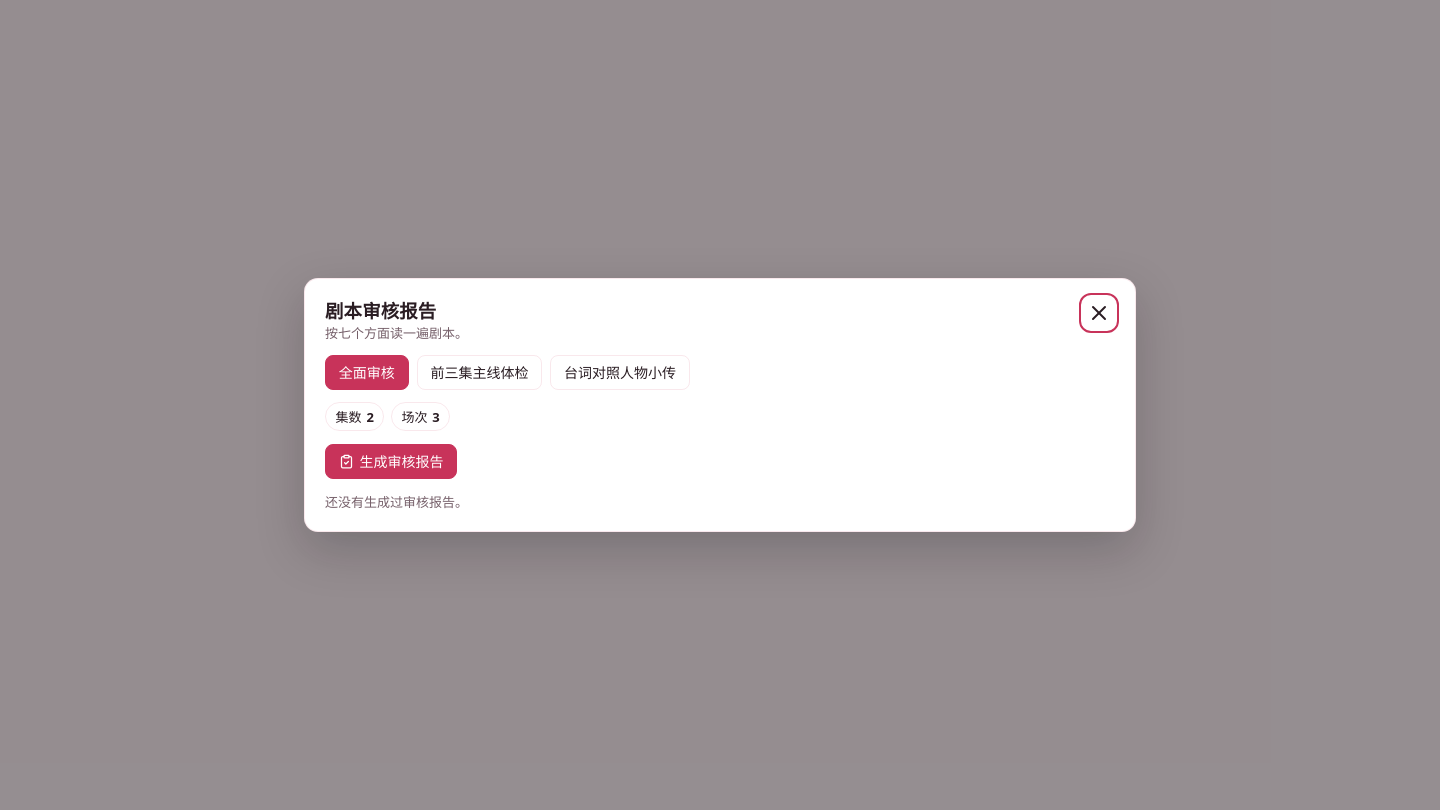
Test case: ScriptReviewDialog › switches to a focused check, reads and writes that check, and says when it cannot run
Expected: the text "按七个方面读一遍剧本。" is shown, [325, 323, 468, 342]
Click the button "前三集主线体检" at [479, 372], box [417, 355, 542, 390]
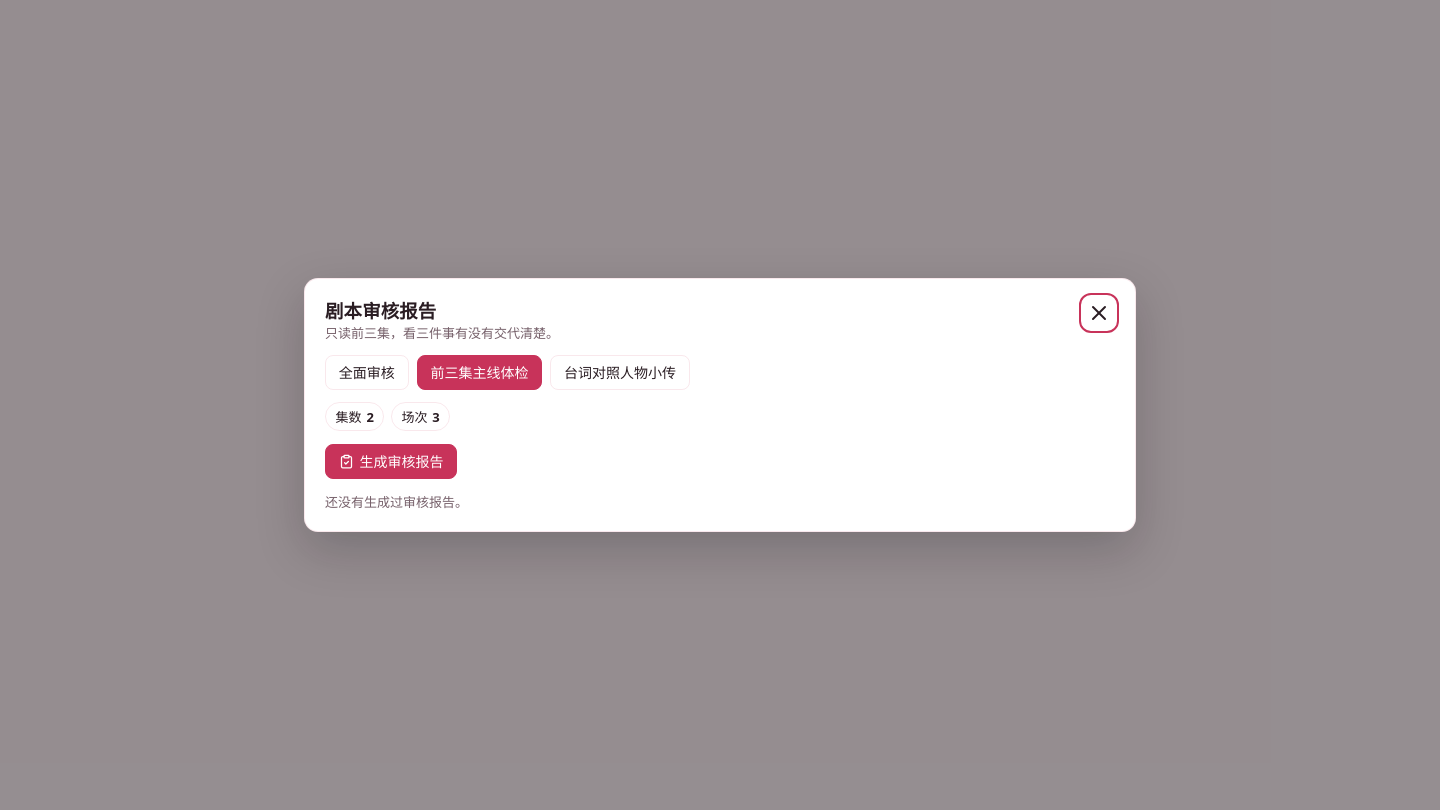
Now the text "只读前三集，看三件事有没有交代清楚。" is shown, box [325, 323, 559, 342]
Click the button "生成审核报告" at [391, 462], box [325, 444, 457, 479]
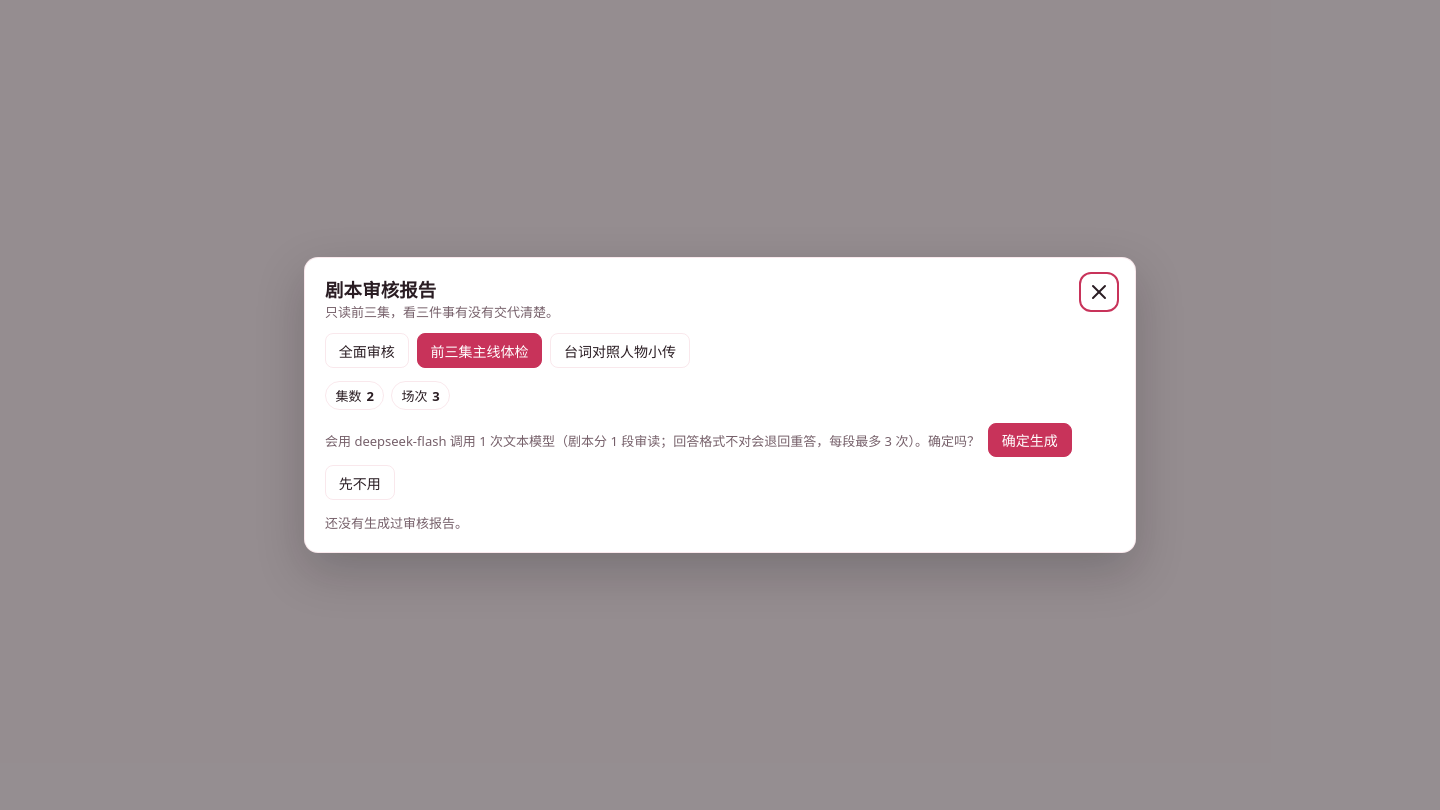
Click the button "确定生成" at [1030, 440], box [988, 423, 1072, 458]
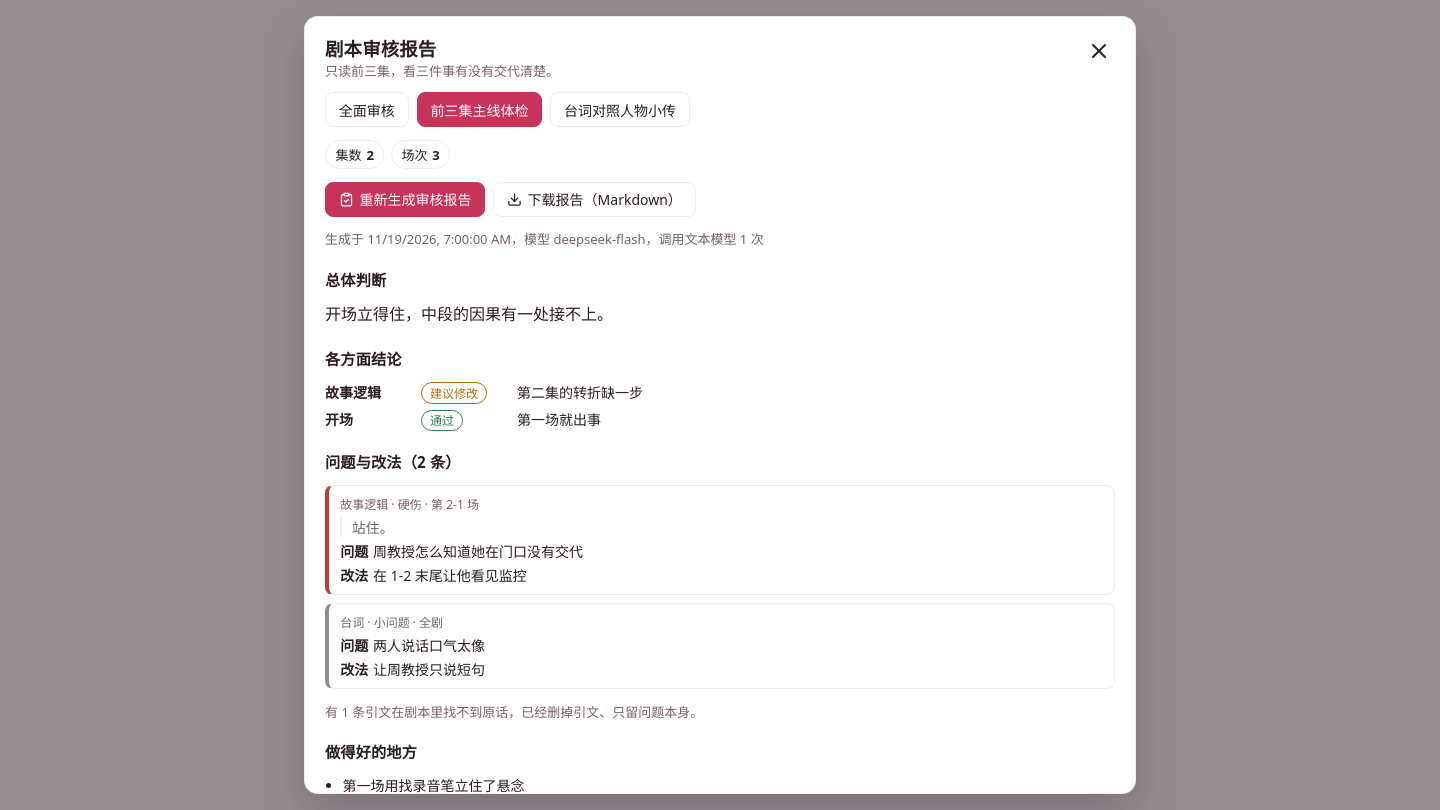
Now the text "开场立得住，中段的因果有一处接不上。" is shown, box [325, 303, 613, 325]
Click the button "台词对照人物小传" at [620, 110], box [550, 92, 690, 127]
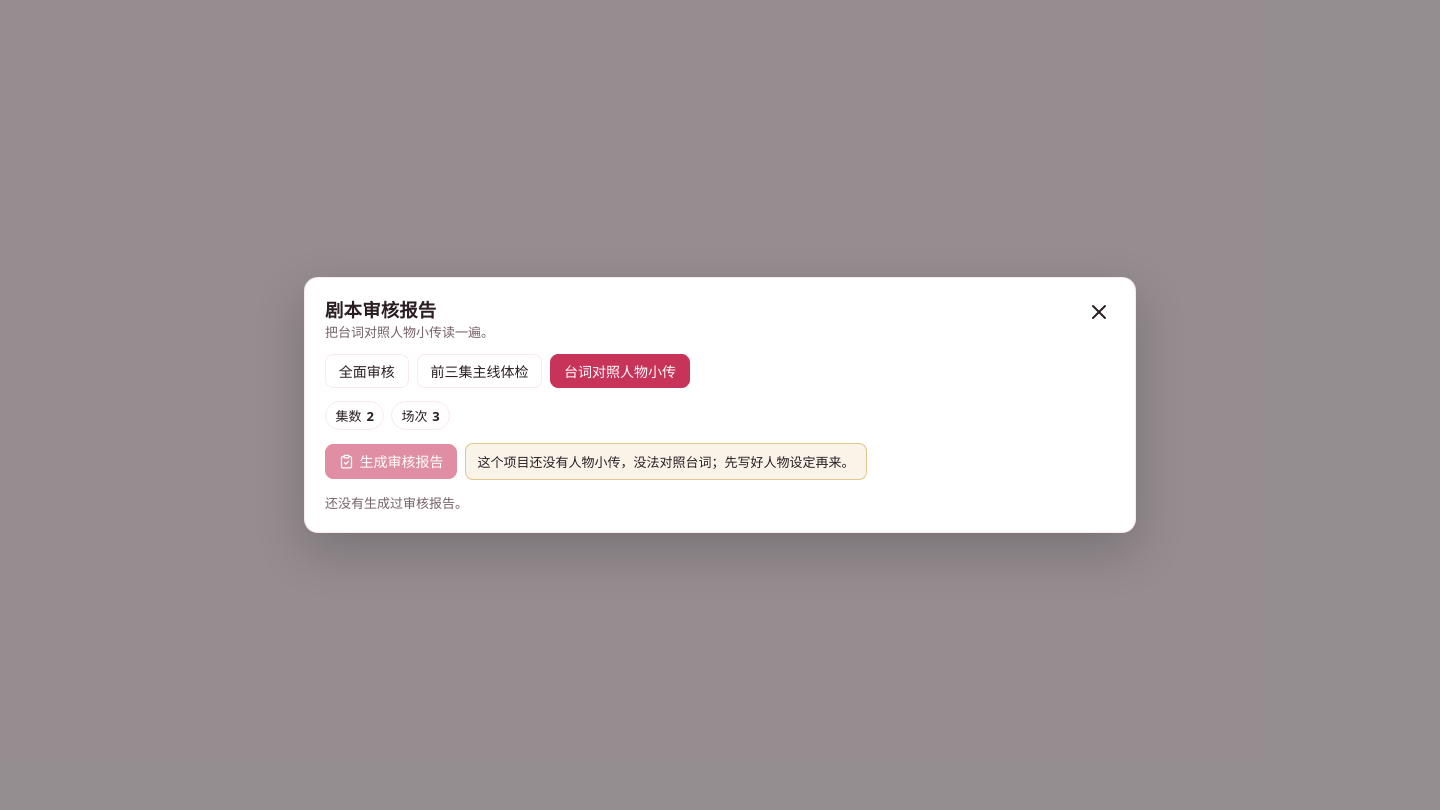
Now the text "这个项目还没有人物小传，没法对照台词；先写好人物设定再来。" is shown, box [465, 443, 867, 480]
Now the button "生成审核报告" is disabled, box [325, 444, 457, 479]
